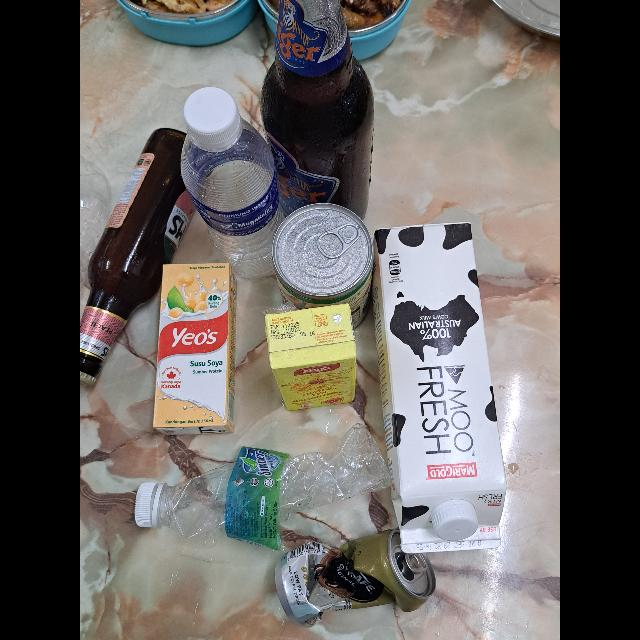aba de lata: (317, 223, 361, 259), (404, 552, 430, 572)
caixinha: (371, 221, 507, 554), (152, 264, 238, 434), (265, 303, 357, 411)
garrafa de vidro: (80, 127, 206, 387), (260, 0, 372, 224)
garrafa plástica: (160, 422, 394, 552), (182, 121, 284, 277)
lata: (274, 526, 438, 626), (271, 202, 373, 328)
tampa plástica: (183, 87, 240, 145), (432, 502, 478, 540), (134, 481, 158, 527)
